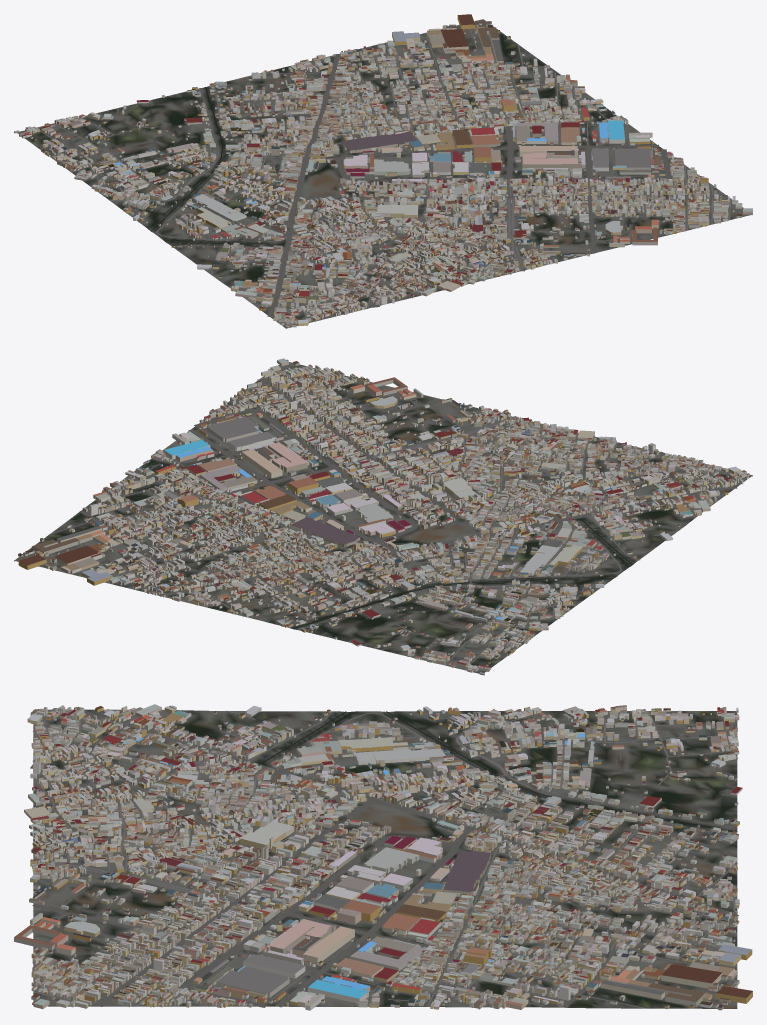
3 renders of one model, top to bottom at view 1: azimuth 30°, elevation 25°; view 2: azimuth 150°, elevation 25°; view 3: azimuth 270°, elevation 25°, orthographic. The views are drawn at different scales.
Parts seen in each view (by area): view 1: buildings, ground, roads; view 2: buildings, ground, roads; view 3: buildings, ground, roads, water.
Part boxes in pixels (x1=…): buildings: x1=14, y1=14, x2=752, y2=327; ground: x1=17, y1=19, x2=752, y2=328; roads: x1=39, y1=29, x2=731, y2=325; buildings: x1=18, y1=358, x2=749, y2=675; ground: x1=14, y1=362, x2=752, y2=673; roads: x1=46, y1=366, x2=744, y2=670; buildings: x1=14, y1=704, x2=752, y2=1010; ground: x1=33, y1=709, x2=737, y2=1008; roads: x1=30, y1=710, x2=738, y2=1008; water: x1=261, y1=711, x2=737, y2=831.
Bounding box in the file's own units: 1431 × 33.37 × 1470.
